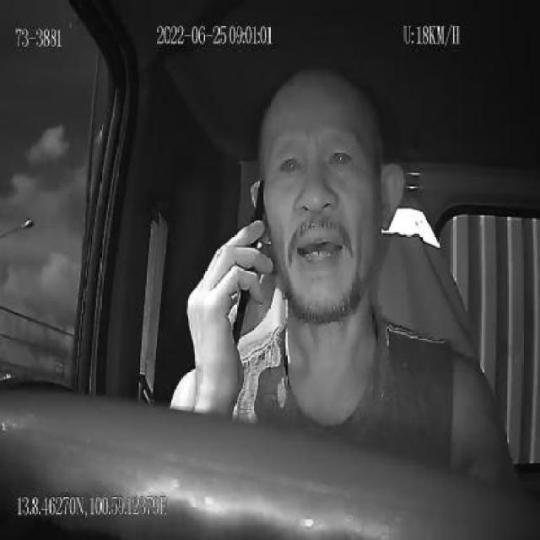phone: (231, 178, 265, 353)
